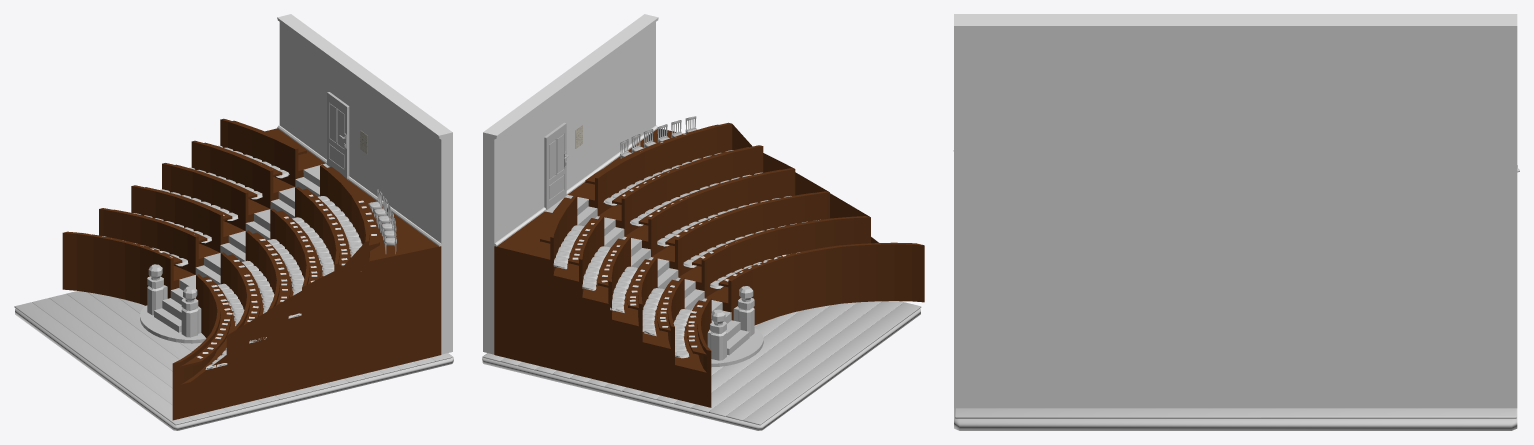
The model's file is room 4 TEXTURES.fbx.
3 views of the same model, side by side, from view 1: azimuth 30°, elevation 25°; view 2: azimuth 150°, elevation 25°; view 3: azimuth 270°, elevation 25° (orthographic). The views are drawn at different scales.
Visible parts, largest first — view 1: 4 auditorium, 4 wall, 4 Floor, 4 stairs, 4 seats, 4 columns, 4 Door, 4 papers, 4 chairs; view 2: 4 auditorium, 4 wall, 4 Floor, 4 seats, 4 stairs, 4 Door, 4 columns, 4 chairs, 4 papers; view 3: 4 wall, 4 Floor.
Boxes of the visible parts, x1,y1,x2,y2 form: 4 auditorium: (62,118,441,420); 4 wall: (277,14,452,354); 4 Floor: (14,291,453,430); 4 stairs: (140,163,329,343); 4 seats: (133,145,362,369); 4 columns: (147,264,201,337); 4 Door: (327,92,349,178); 4 papers: (89,194,376,358); 4 chairs: (368,189,396,254); 4 auditorium: (494,122,924,407); 4 wall: (483,14,658,354); 4 Floor: (482,301,921,430); 4 seats: (553,150,820,358); 4 stairs: (545,195,763,367); 4 Door: (544,122,568,209); 4 columns: (707,286,754,360); 4 chairs: (620,116,697,158); 4 papers: (572,134,799,347); 4 wall: (954,14,1517,408); 4 Floor: (954,408,1517,430).
Bounding box in the file's own units: 1008 × 792 × 1007.
